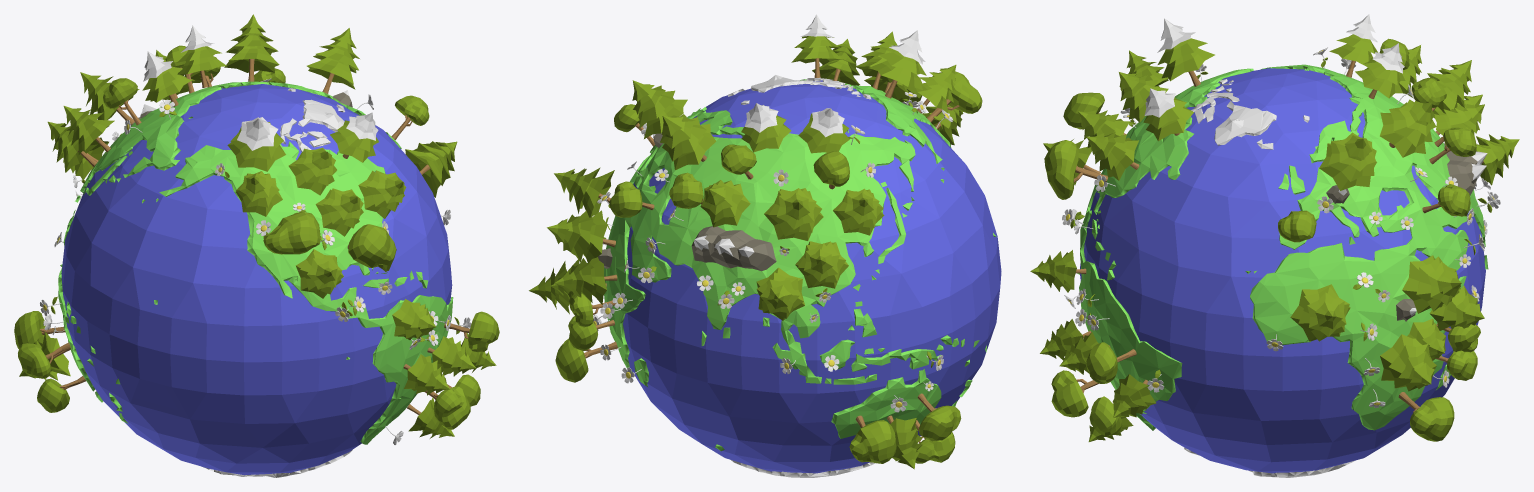
Rendered from origami_planet.glb.
3 renders of one model, left to right at view 1: azimuth 30°, elevation 25°; view 2: azimuth 150°, elevation 25°; view 3: azimuth 270°, elevation 25°, orthographic. The views are drawn at different scales.
Parts seen in each view (by area): view 1: Sphere, Globo_Sphere.003, Cylinder.002, Cylinder.023, Cylinder.003, Cylinder.013, Cylinder.008, Cylinder.015, Cylinder.076, Cylinder.010, Cylinder.006, Cylinder.004 (+19 smaller); view 2: Sphere, Globo_Sphere.003, Cylinder.048, Cylinder.025, Cylinder.023, Cylinder.016, Cylinder.002, Cylinder.013, Cylinder.090, Cylinder.026, Cylinder.027, Cylinder.015 (+23 smaller); view 3: Sphere, Globo_Sphere.003, Cylinder.015, Cylinder.023, Cylinder.013, Cylinder.016, Cylinder.018, Cylinder.002, Cylinder.008, Cylinder.076, Cylinder.075, Cylinder.019 (+26 smaller).
Part boxes in pixels (bbox=[...]): Sphere: bbox=[61, 84, 452, 475]; Globo_Sphere.003: bbox=[58, 81, 453, 477]; Cylinder.002: bbox=[227, 117, 285, 171]; Cylinder.023: bbox=[224, 14, 279, 81]; Cylinder.003: bbox=[263, 211, 320, 254]; Cylinder.013: bbox=[307, 28, 359, 93]; Cylinder.008: bbox=[347, 224, 396, 271]; Cylinder.015: bbox=[405, 141, 457, 197]; Cylinder.076: bbox=[330, 112, 378, 162]; Cylinder.010: bbox=[296, 249, 343, 298]; Cylinder.006: bbox=[315, 188, 363, 236]; Cylinder.004: bbox=[288, 147, 336, 195]; Sphere: bbox=[623, 80, 1001, 473]; Globo_Sphere.003: bbox=[604, 75, 996, 477]; Cylinder.048: bbox=[691, 226, 776, 271]; Cylinder.025: bbox=[764, 188, 823, 240]; Cylinder.023: bbox=[660, 114, 716, 170]; Cylinder.016: bbox=[547, 210, 615, 262]; Cylinder.002: bbox=[868, 30, 926, 98]; Cylinder.013: bbox=[632, 80, 687, 138]; Cylinder.090: bbox=[756, 267, 804, 320]; Cylinder.026: bbox=[795, 241, 848, 288]; Cylinder.027: bbox=[849, 415, 896, 463]; Cylinder.015: bbox=[554, 167, 614, 217]; Sphere: bbox=[1080, 68, 1485, 473]; Globo_Sphere.003: bbox=[1077, 64, 1488, 477]; Cylinder.015: bbox=[1290, 284, 1350, 341]; Cylinder.023: bbox=[1380, 99, 1436, 157]; Cylinder.013: bbox=[1319, 132, 1376, 190]; Cylinder.016: bbox=[1402, 255, 1461, 313]; Cylinder.018: bbox=[1380, 334, 1436, 391]; Cylinder.002: bbox=[1157, 18, 1214, 86]; Cylinder.008: bbox=[1044, 140, 1107, 199]; Cylinder.076: bbox=[1143, 88, 1193, 141]; Cylinder.075: bbox=[1355, 43, 1405, 98]; Cylinder.019: bbox=[1398, 392, 1454, 441].
Size of the model in its own units: 3.34 by 3.13 by 3.28.
